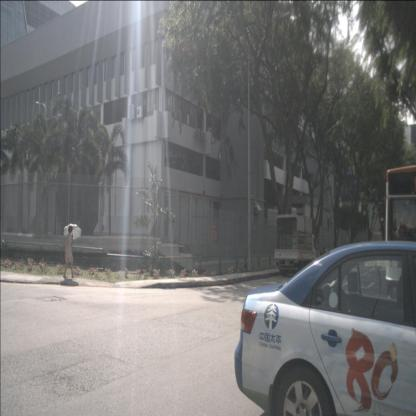human-pedestrian-adult: (63, 223, 81, 278)
vehicle-bus-rigid: (386, 167, 416, 301)
vehicle-car: (234, 240, 416, 416)
vehicle-truck: (274, 214, 318, 276)
